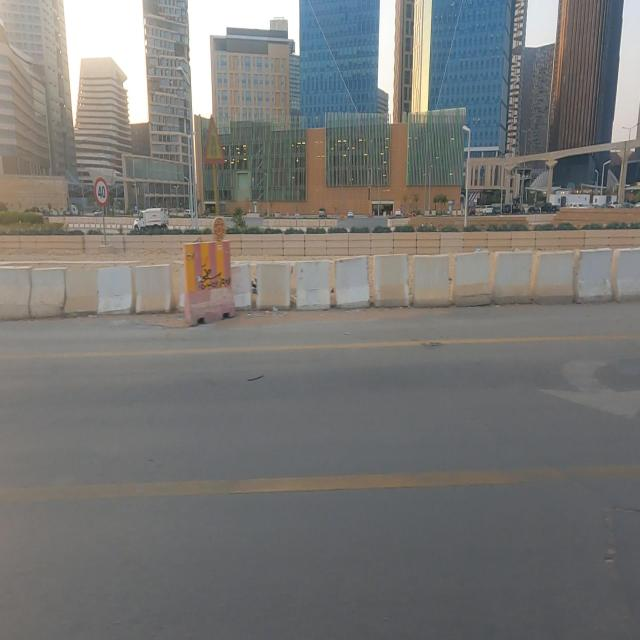Graffiti: (198, 269, 234, 295)
